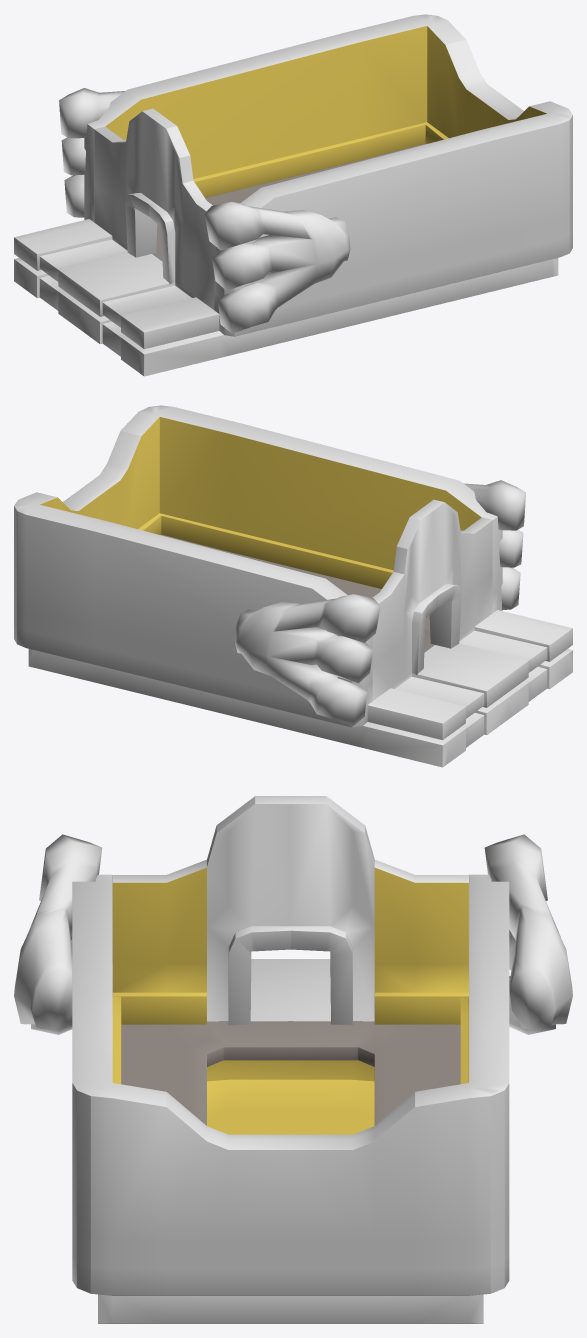
Rendered from BigTemple.fbx.
The picture shows the model from 3 angles, top to bottom: view 1: azimuth 30°, elevation 25°; view 2: azimuth 150°, elevation 25°; view 3: azimuth 270°, elevation 25°; orthographic projection. The views are drawn at different scales.
Visible parts, largest first — view 1: BigTemple, ForgHands; view 2: BigTemple, ForgHands; view 3: BigTemple, ForgHands.
Boxes of the visible parts, x1,y1,x2,y2 form: BigTemple: (14, 14, 572, 376); ForgHands: (59, 88, 350, 333); BigTemple: (14, 405, 572, 767); ForgHands: (234, 480, 525, 725); BigTemple: (72, 796, 509, 1323); ForgHands: (14, 834, 572, 1034).
Bounding box in the file's own units: 114 × 48.53 × 87.01.
